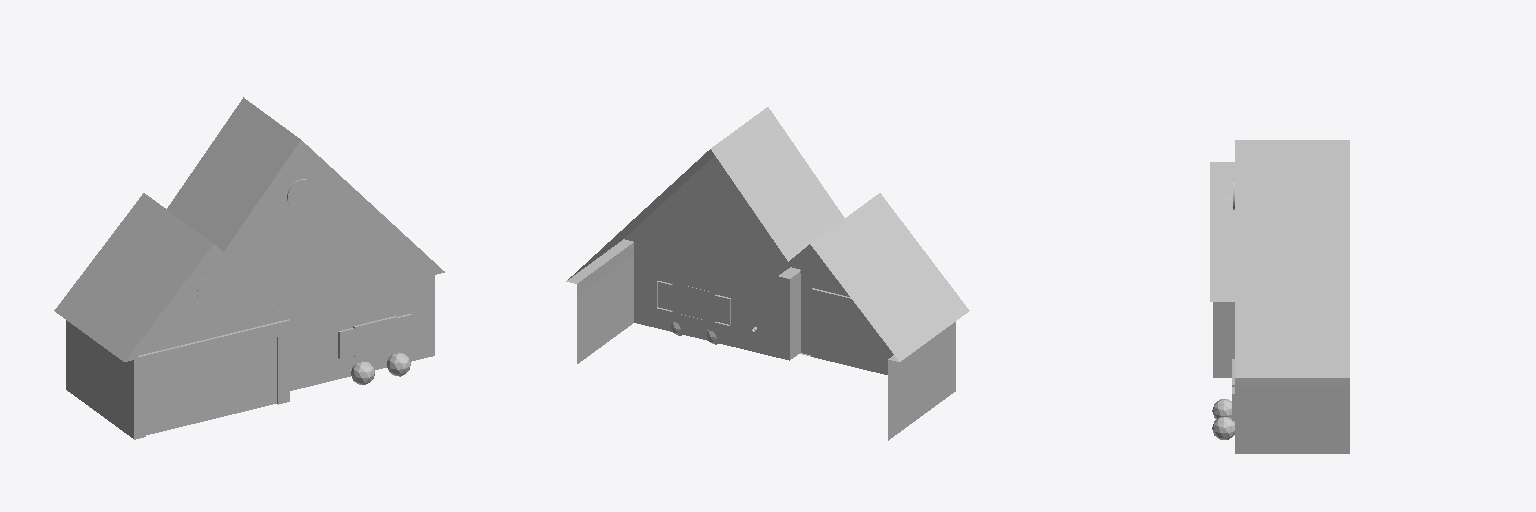
The model's file is CFEHouse.obj.
The picture shows the model from 3 angles: view 1: azimuth 30°, elevation 25°; view 2: azimuth 150°, elevation 25°; view 3: azimuth 270°, elevation 25°; orthographic projection.
Visible parts, largest first — view 1: Plane.001; view 2: Plane.001; view 3: Plane.001.
Part boxes in pixels (left/top/right/bottom): Plane.001: left=54, top=97, right=444, bottom=439; Plane.001: left=566, top=107, right=969, bottom=440; Plane.001: left=1210, top=140, right=1349, bottom=453.
Bounding box in the file's own units: 4.28 × 3.13 × 1.56.